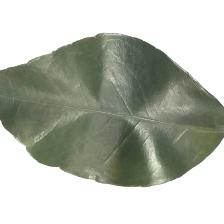healthy: (17, 48, 186, 177)
